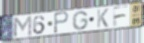6: (33, 15, 47, 35)
F: (112, 4, 130, 28)
G: (72, 10, 89, 31)
K: (96, 8, 110, 29)
M: (12, 15, 34, 38)
P: (54, 10, 71, 34)
